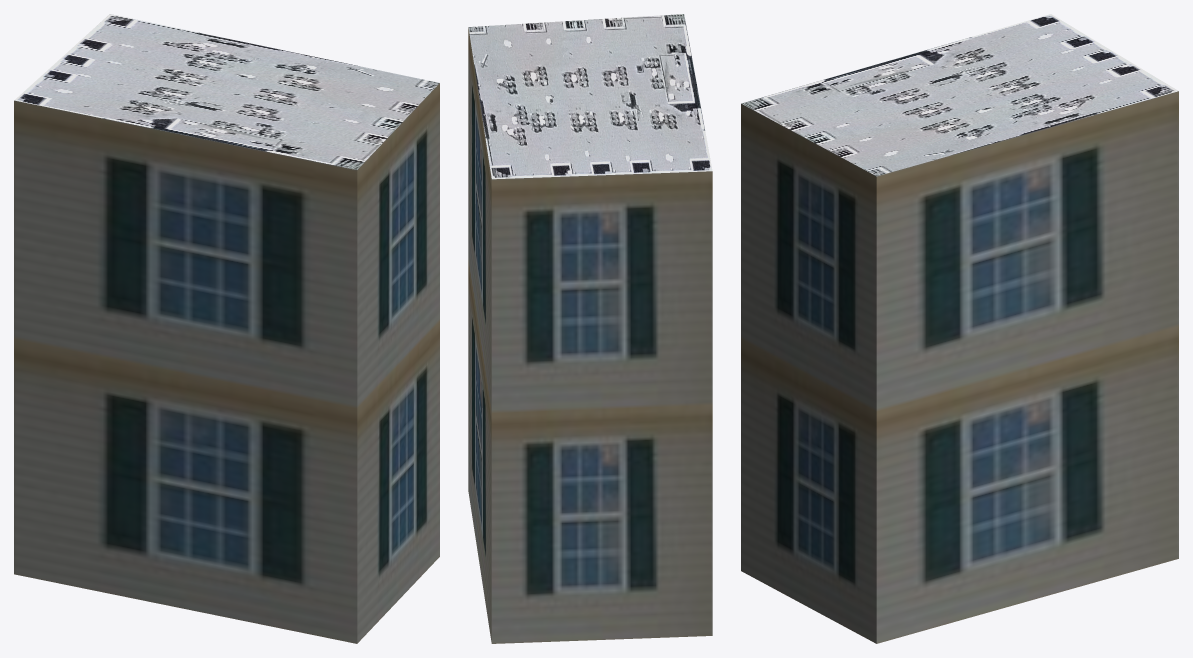
The model's file is ResTex__4534.fbx.
The picture shows the model from 3 angles, left to right: view 1: azimuth 30°, elevation 25°; view 2: azimuth 150°, elevation 25°; view 3: azimuth 270°, elevation 25°; orthographic projection.
Parts seen in each view (by area): view 1: CityEngineMaterial_7_m, CityEngineMaterial_4_m; view 2: CityEngineMaterial_7_m, CityEngineMaterial_4_m; view 3: CityEngineMaterial_7_m, CityEngineMaterial_4_m.
Part boxes in pixels (x1,y1,x2,y2): CityEngineMaterial_7_m: [14, 83, 439, 643]; CityEngineMaterial_4_m: [14, 14, 439, 169]; CityEngineMaterial_7_m: [468, 27, 712, 643]; CityEngineMaterial_4_m: [468, 14, 712, 179]; CityEngineMaterial_7_m: [741, 91, 1178, 643]; CityEngineMaterial_4_m: [741, 14, 1178, 176].
Bounding box in the file's own units: 4.47 × 6 × 5.09.
Materials: 2 (2 with a texture image).
